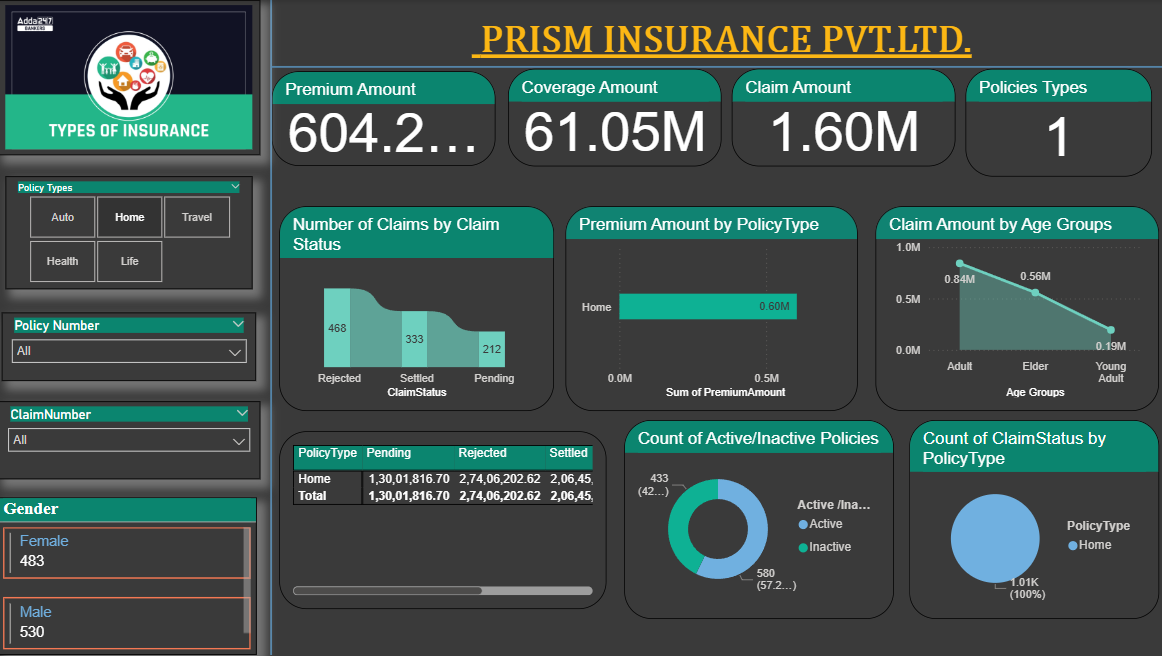

The dashboard page shown, as its layout file describes it:
{"tool":"powerbi","page":{"name":"Page 1","canvas":[1280,720],"ordinal":0},"visuals":[{"type":"slicer","title":"Policy Types","fields":{"Values":["InsuranceData (1).PolicyType"]},"box":[8.6,193.9,270.8,124],"z":0},{"type":"textbox","box":[308.7,16.5,971.5,61.7],"z":1000},{"type":"slicer","title":"Policy Number","fields":{"Values":["InsuranceData (1).PolicyNumber"]},"box":[4.3,343.5,279.4,75.5],"z":2000},{"type":"slicer","title":"Claim Number ","fields":{"Values":["InsuranceData (1).ClaimNumber"]},"box":[0,440.4,287.9,85.5],"z":3000},{"type":"card","title":"Premium Amount","fields":{"Values":["Sum(InsuranceData (1).PremiumAmount)"]},"box":[300.5,78.2,245.6,104.3],"z":4000},{"type":"shape","box":[190.7,0,218.2,719],"z":5000},{"type":"card","title":"Claim Amount","fields":{"Values":["Sum(InsuranceData (1).ClaimAmount)"]},"box":[805.5,75.5,245.6,107],"z":6000},{"type":"card","title":"Coverage Amount","fields":{"Values":["Sum(InsuranceData (1).CoverageAmount)"]},"box":[559.9,75.5,234.6,107],"z":7000},{"type":"multiRowCard","title":"Gender ","fields":{"Values":["InsuranceData (1).Gender","CountNonNull(InsuranceData (1).Gender)"]},"box":[0,545.9,283.7,172.5],"z":8000},{"type":"image","box":[0,0,288.2,170.2],"z":9000},{"type":"shape","box":[300.5,0,979.8,146.8],"z":10000},{"type":"ribbonChart","title":"Number of Claims by Claim Status","fields":{"Category":["InsuranceData (1).ClaimStatus"],"Y":["CountNonNull(InsuranceData (1).ClaimStatus)"]},"box":[308.7,226.4,301.9,225],"z":11000},{"type":"barChart","title":"Premium Amount by PolicyType","fields":{"Category":["InsuranceData (1).PolicyType"],"Y":["Sum(InsuranceData (1).PremiumAmount)"]},"box":[623,226.4,321.1,225],"z":12000},{"type":"lineChart","title":" Claim Amount by Age Groups","fields":{"Category":["InsuranceData (1).Age Groups"],"Y":["Sum(InsuranceData (1).ClaimAmount)"]},"box":[963.3,226.4,311.5,225],"z":13000},{"type":"donutChart","title":"Count of Active/Inactive Policies","fields":{"Category":["InsuranceData (1).Active /Inactive "],"Y":["CountNonNull(InsuranceData (1).Active /Inactive )"]},"box":[687.5,461.1,296.4,218.2],"z":14000},{"type":"pivotTable","fields":{"Rows":["InsuranceData (1).PolicyType"],"Values":["Sum(InsuranceData (1).CoverageAmount)"],"Columns":["InsuranceData (1).ClaimStatus"]},"box":[308.7,473.4,359.5,194.9],"z":15000},{"type":"card","title":"Policies Types","fields":{"Values":["Count(InsuranceData (1).PolicyType)"]},"box":[1062.1,75.5,204.5,118],"z":16000},{"type":"pieChart","fields":{"Category":["InsuranceData (1).PolicyType"],"Y":["CountNonNull(InsuranceData (1).ClaimStatus)"]},"box":[1000.3,461.1,274.4,218.2],"z":17000}]}

Visuals, with their boxes in screenshot pixels (x1, y1, x2, y2), scaled from the page's 1280x720 canvas onto the 1162x656 screenshot:
"Policy Types" slicer: [left=8, top=177, right=254, bottom=290]
textbox: [left=280, top=15, right=1161, bottom=71]
"Policy Number" slicer: [left=4, top=313, right=258, bottom=382]
"Claim Number " slicer: [left=0, top=401, right=261, bottom=479]
"Premium Amount" card: [left=273, top=71, right=496, bottom=166]
shape: [left=173, top=0, right=371, bottom=655]
"Claim Amount" card: [left=731, top=69, right=954, bottom=166]
"Coverage Amount" card: [left=508, top=69, right=721, bottom=166]
"Gender " multiRowCard: [left=0, top=497, right=258, bottom=655]
image: [left=0, top=0, right=262, bottom=155]
shape: [left=273, top=0, right=1161, bottom=134]
"Number of Claims by Claim Status" ribbonChart: [left=280, top=206, right=554, bottom=411]
"Premium Amount by PolicyType" barChart: [left=566, top=206, right=857, bottom=411]
" Claim Amount by Age Groups" lineChart: [left=874, top=206, right=1157, bottom=411]
"Count of Active/Inactive Policies" donutChart: [left=624, top=420, right=893, bottom=619]
pivotTable - InsuranceData (1).PolicyType x Sum(InsuranceData (1).CoverageAmount): [left=280, top=431, right=607, bottom=609]
"Policies Types" card: [left=964, top=69, right=1150, bottom=176]
pieChart - InsuranceData (1).PolicyType x CountNonNull(InsuranceData (1).ClaimStatus): [left=908, top=420, right=1157, bottom=619]
